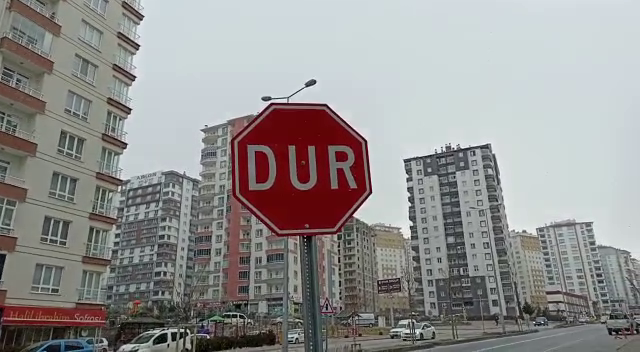stop: (226, 100, 376, 239)
